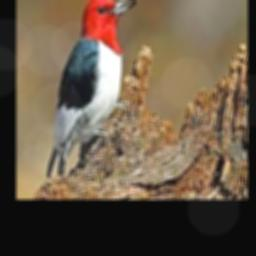Woodpecker: (46, 0, 137, 179)
